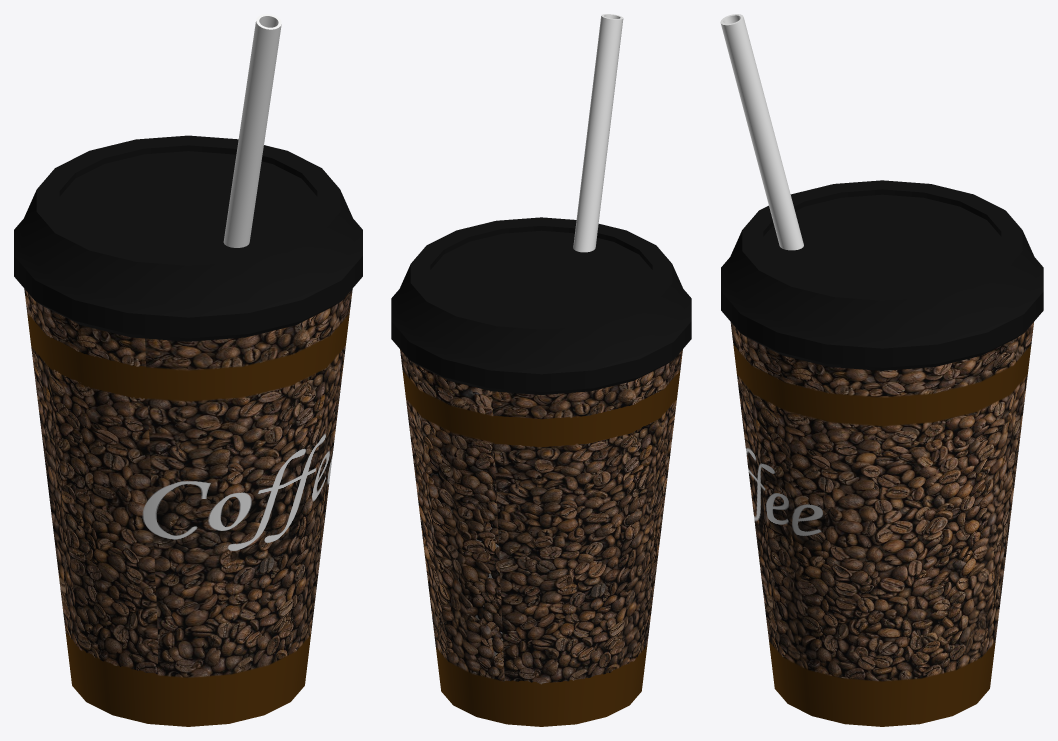
The model's file is Coffee 2.FBX.
3 views of the same model, side by side, from view 1: azimuth 30°, elevation 25°; view 2: azimuth 150°, elevation 25°; view 3: azimuth 270°, elevation 25° (orthographic). The views are drawn at different scales.
Parts seen in each view (by area): view 1: Coffee 2; view 2: Coffee 2; view 3: Coffee 2.
Part boxes in pixels (x1,y1,x2,y2): Coffee 2: (14, 14, 362, 726); Coffee 2: (391, 14, 691, 726); Coffee 2: (720, 14, 1043, 726).
Bounding box in the file's own units: 12.63 × 28.23 × 12.47.
Materials: 1 (1 with a texture image).
